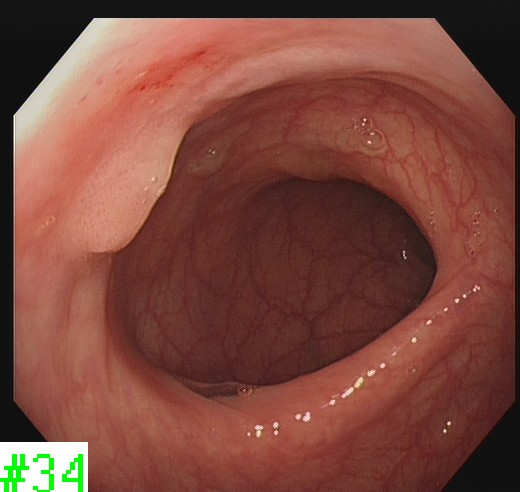adenoma: (68, 118, 187, 254)
